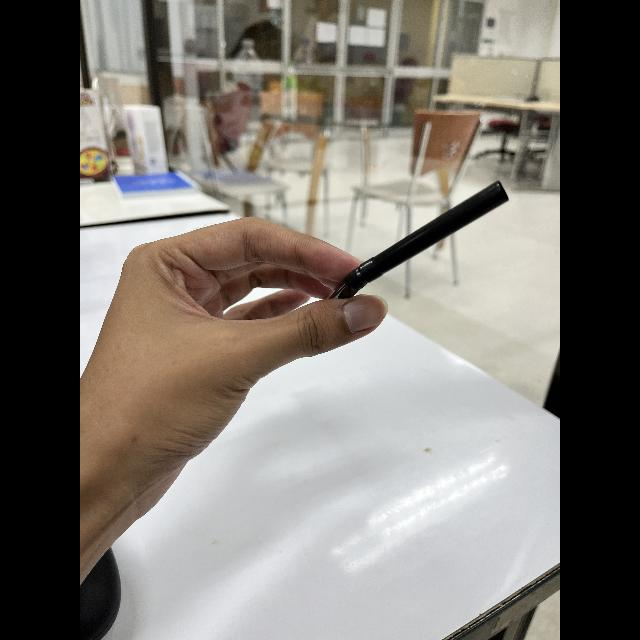straw: (330, 180, 510, 310)
